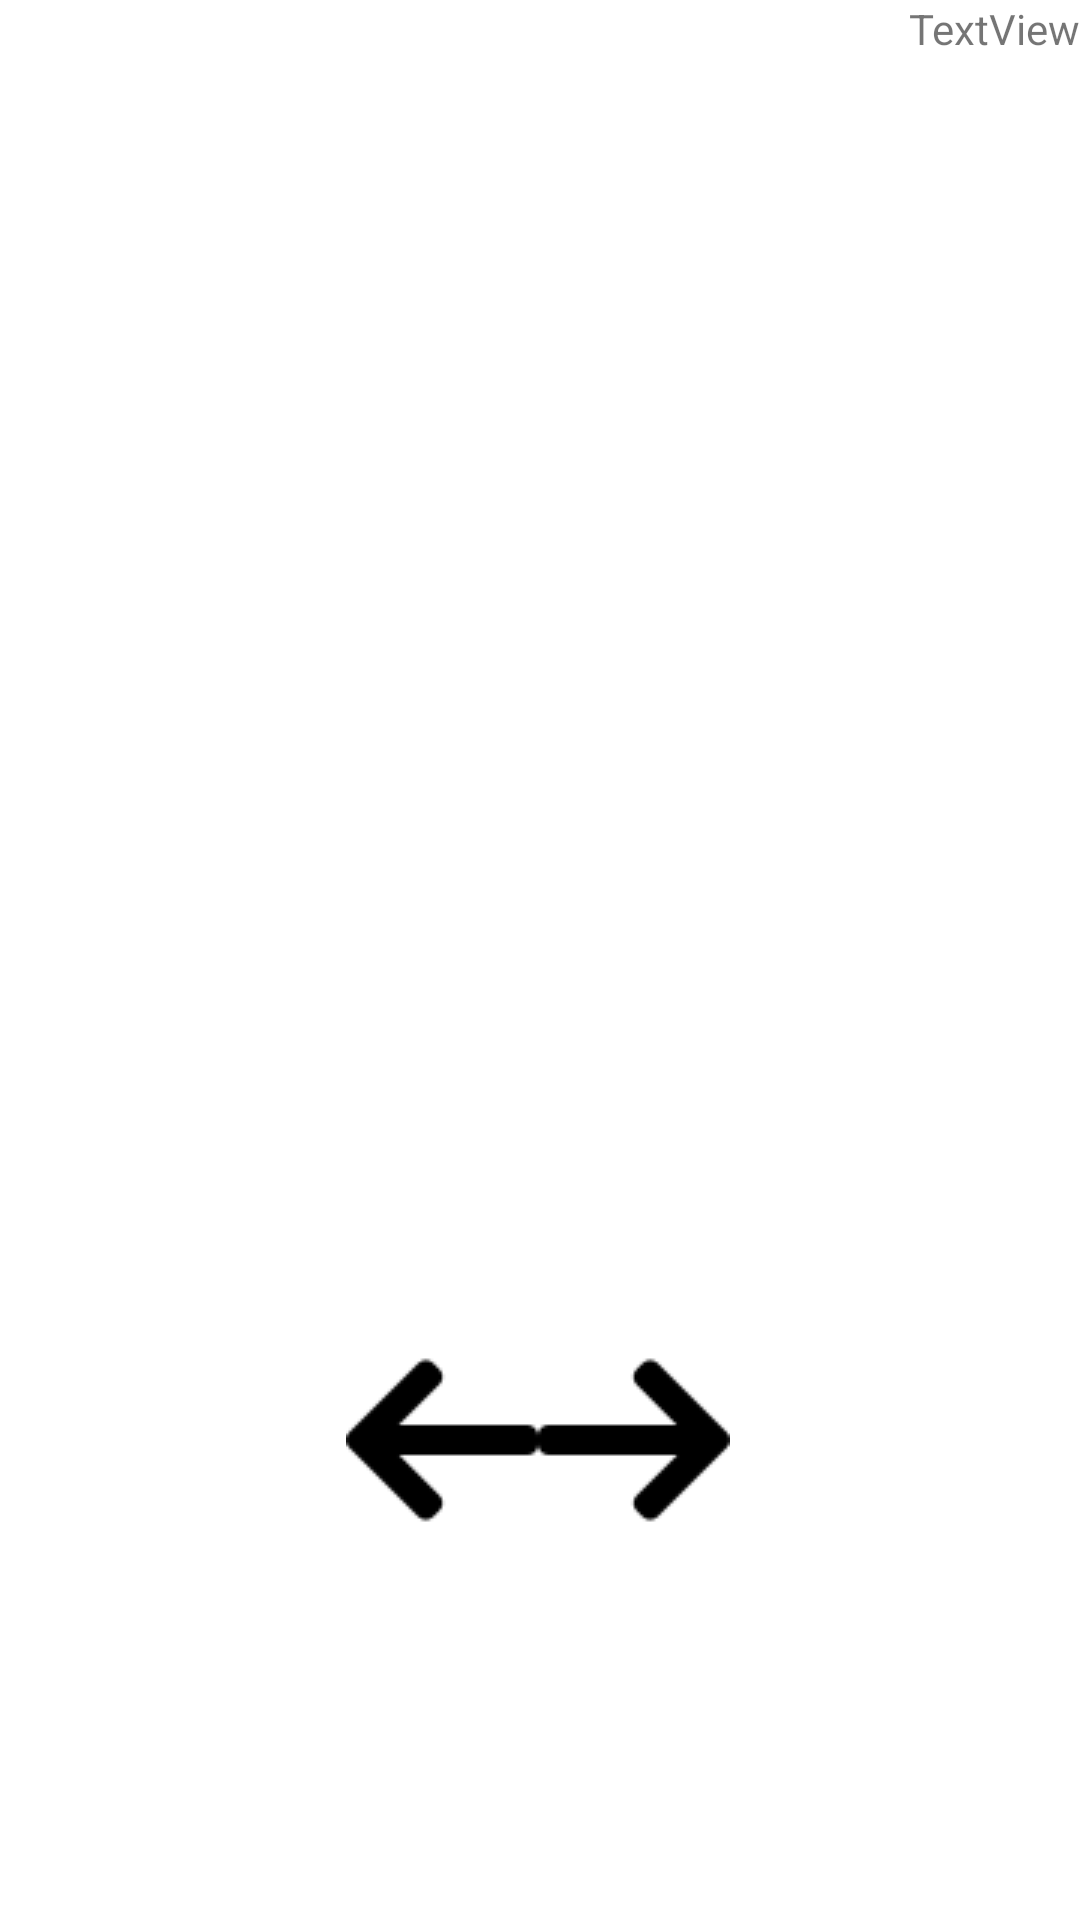

Screen size 1080*1920. Icon name, then its center in pixels as (x=x, y=y):
left: (x=442, y=1440)
right: (x=634, y=1440)
